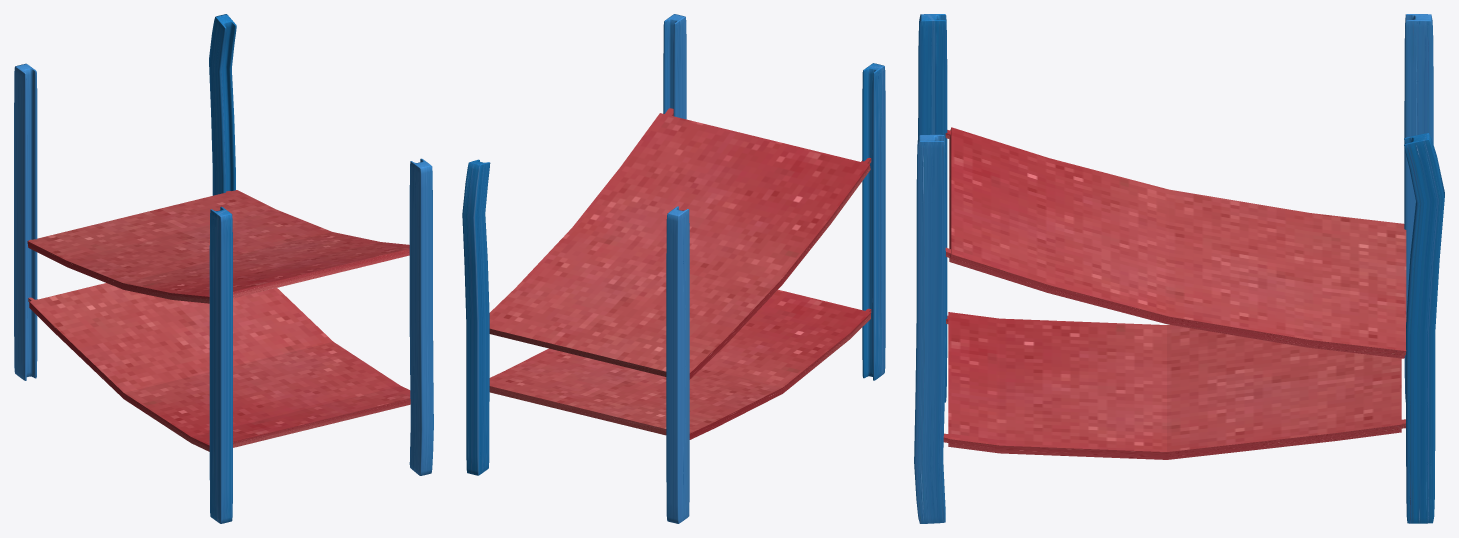
The model's file is ShelfBent.fbx.
3 renders of one model, left to right at view 1: azimuth 30°, elevation 25°; view 2: azimuth 150°, elevation 25°; view 3: azimuth 270°, elevation 25°, orthographic. The views are drawn at different scales.
Parts seen in each view (by area): view 1: pasted__pCube5, pasted__pCube6, pCube1, pCube7, pCube8, pCube9; view 2: pasted__pCube6, pasted__pCube5, pCube8, pCube9, pCube7, pCube1; view 3: pasted__pCube6, pasted__pCube5, pCube9, pCube1, pCube8, pCube7.
Part boxes in pixels (left/top/right/bottom): pasted__pCube5: left=28, top=283, right=410, bottom=451; pasted__pCube6: left=27, top=190, right=409, bottom=303; pCube1: left=409, top=158, right=433, bottom=475; pCube7: left=209, top=206, right=232, bottom=523; pCube8: left=14, top=63, right=37, bottom=380; pCube9: left=209, top=14, right=236, bottom=195; pasted__pCube6: left=489, top=108, right=871, bottom=379; pasted__pCube5: left=489, top=289, right=871, bottom=439; pCube8: left=666, top=206, right=689, bottom=523; pCube9: left=462, top=159, right=490, bottom=475; pCube7: left=862, top=63, right=885, bottom=380; pCube1: left=663, top=14, right=686, bottom=119; pasted__pCube6: left=945, top=127, right=1406, bottom=358; pasted__pCube5: left=943, top=312, right=1405, bottom=459; pCube9: left=1404, top=133, right=1444, bottom=523; pCube1: left=914, top=134, right=945, bottom=523; pCube8: left=1404, top=14, right=1433, bottom=401; pCube7: left=918, top=14, right=947, bottom=402.
Bounding box in the file's own units: 6.09 × 8.46 × 10.58.
Materials: 2 (2 with a texture image).
